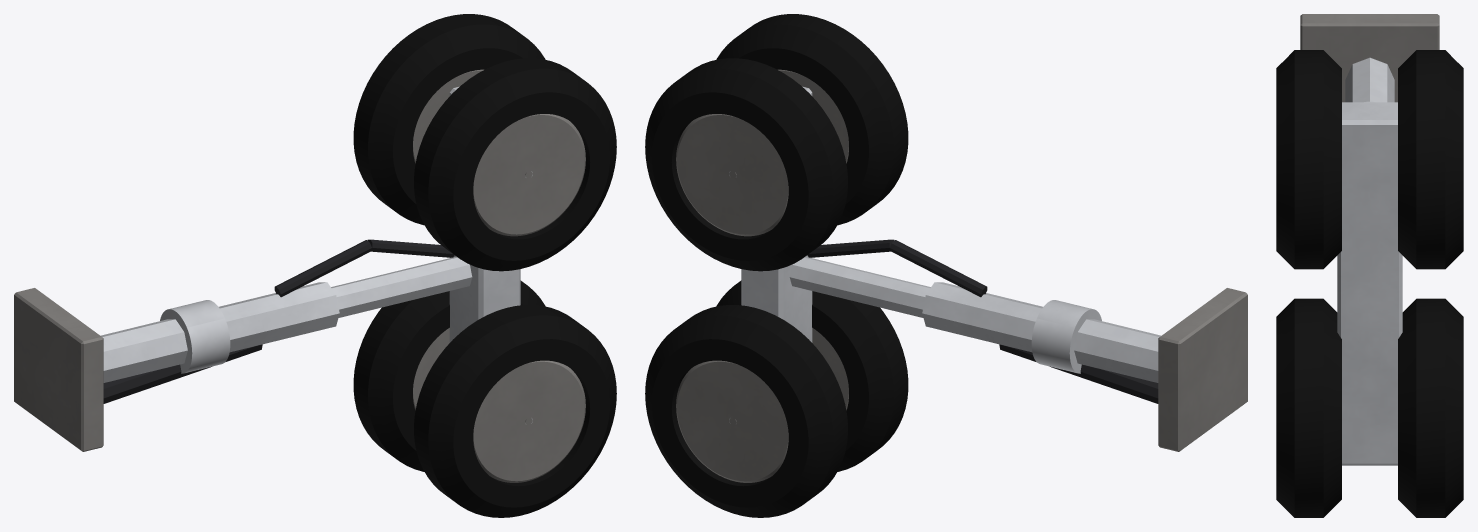
File: ax_gear_03_bogie_gear_l.glb
3 views of the same model, side by side, from view 1: azimuth 30°, elevation 25°; view 2: azimuth 150°, elevation 25°; view 3: azimuth 270°, elevation 25° (orthographic).
Parts seen in each view (by area): view 1: wheel_tyres, wheel_hubs, gear_leg, mount_block, gear_links; view 2: wheel_tyres, wheel_hubs, gear_leg, mount_block, gear_links; view 3: wheel_tyres, gear_leg, mount_block.
Boxes of the visible parts, x1=… form: wheel_tyres: x1=353, y1=14, x2=616, y2=517; wheel_hubs: x1=413, y1=69, x2=585, y2=482; gear_leg: x1=101, y1=86, x2=520, y2=382; mount_block: x1=14, y1=288, x2=103, y2=451; gear_links: x1=103, y1=239, x2=454, y2=403; wheel_tyres: x1=645, y1=14, x2=908, y2=517; wheel_hubs: x1=676, y1=69, x2=848, y2=482; gear_leg: x1=741, y1=86, x2=1160, y2=382; mount_block: x1=1158, y1=288, x2=1247, y2=451; gear_links: x1=807, y1=239, x2=1158, y2=403; wheel_tyres: x1=1276, y1=50, x2=1463, y2=517; gear_leg: x1=1337, y1=57, x2=1402, y2=465; mount_block: x1=1300, y1=14, x2=1439, y2=102.
Bounding box in the file's own units: 2.82 × 2.25 × 0.8549.
4 materials, 2 textured.
